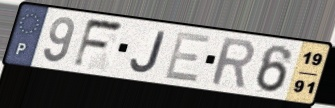6: (255, 44, 295, 94)
9: (42, 15, 77, 65)
E: (161, 31, 213, 85)
F: (70, 17, 126, 70)
J: (128, 29, 168, 74)
R: (209, 36, 256, 91)
